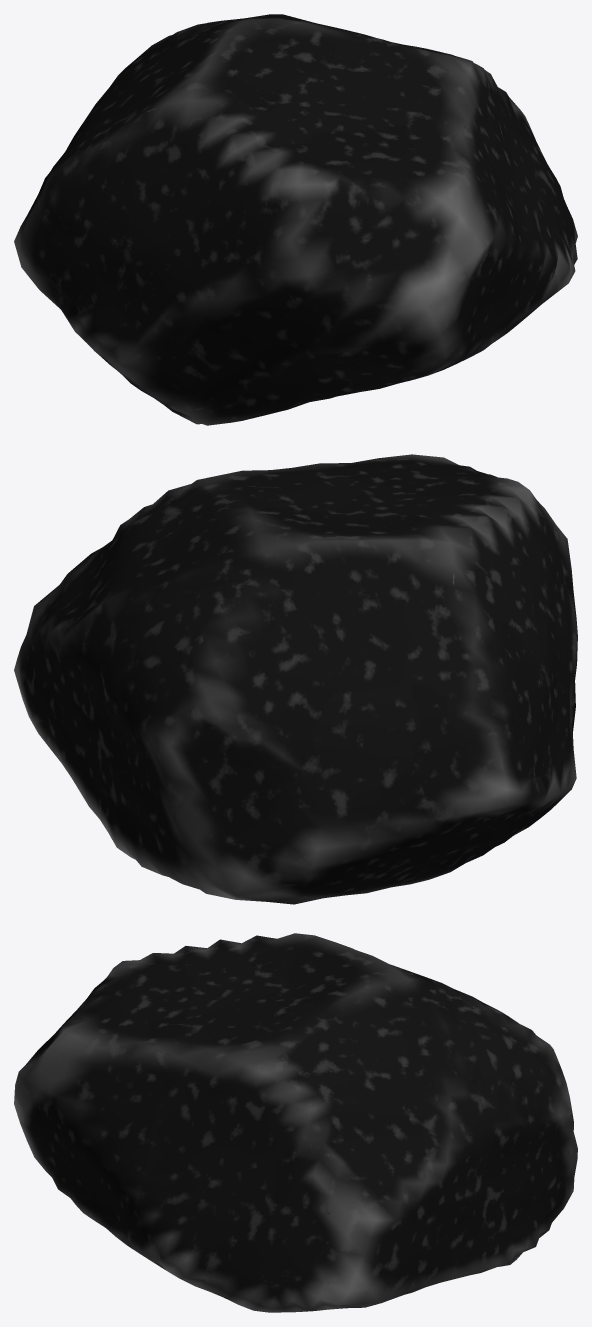
Rendered from lunar_rock11.glb.
3 views of the same model, one above another, from view 1: azimuth 30°, elevation 25°; view 2: azimuth 150°, elevation 25°; view 3: azimuth 270°, elevation 25° (orthographic). The views are drawn at different scales.
Parts seen in each view (by area): view 1: lunar_rock_11; view 2: lunar_rock_11; view 3: lunar_rock_11.
Part boxes in pixels (x1,y1,x2,y2): lunar_rock_11: [14, 14, 577, 425]; lunar_rock_11: [14, 454, 577, 904]; lunar_rock_11: [14, 933, 577, 1312].
Bounding box in the file's own units: 0.1382 × 0.085 × 0.1449.
1 material, 1 textured.
